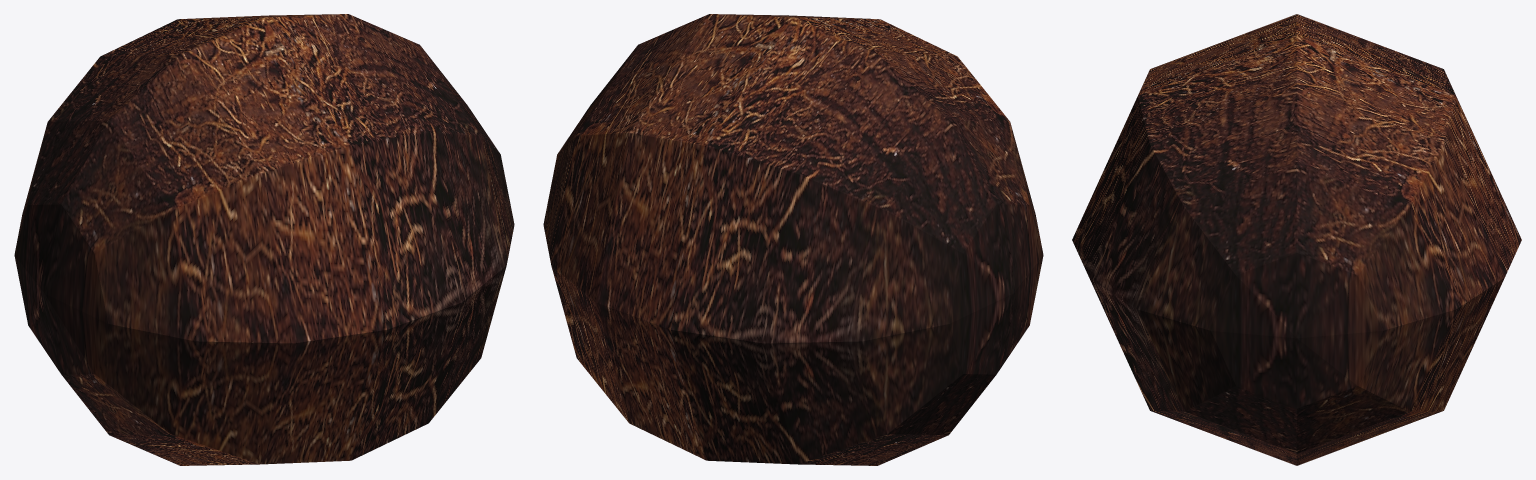
Rendered from coconut.fbx.
3 renders of one model, left to right at view 1: azimuth 30°, elevation 25°; view 2: azimuth 150°, elevation 25°; view 3: azimuth 270°, elevation 25°, orthographic. The views are drawn at different scales.
Parts seen in each view (by area): view 1: Coconut.000, Coconut.001, Coconut; view 2: Coconut.000, Coconut, Coconut.001; view 3: Coconut.001, Coconut, Coconut.000.
Boxes of the visible parts, left/top/right/bottom form: Coconut.000: left=14, top=17, right=386, bottom=458; Coconut.001: left=179, top=14, right=514, bottom=329; Coconut: left=62, top=266, right=506, bottom=465; Coconut.000: left=671, top=17, right=1043, bottom=431; Coconut: left=551, top=266, right=997, bottom=465; Coconut.001: left=543, top=14, right=878, bottom=329; Coconut.001: left=1072, top=36, right=1521, bottom=384; Coconut: left=1089, top=208, right=1504, bottom=465; Coconut.000: left=1083, top=14, right=1510, bottom=214.
Bounding box in the file's own units: 1.03 × 1 × 1.
2 materials, 2 textured.
